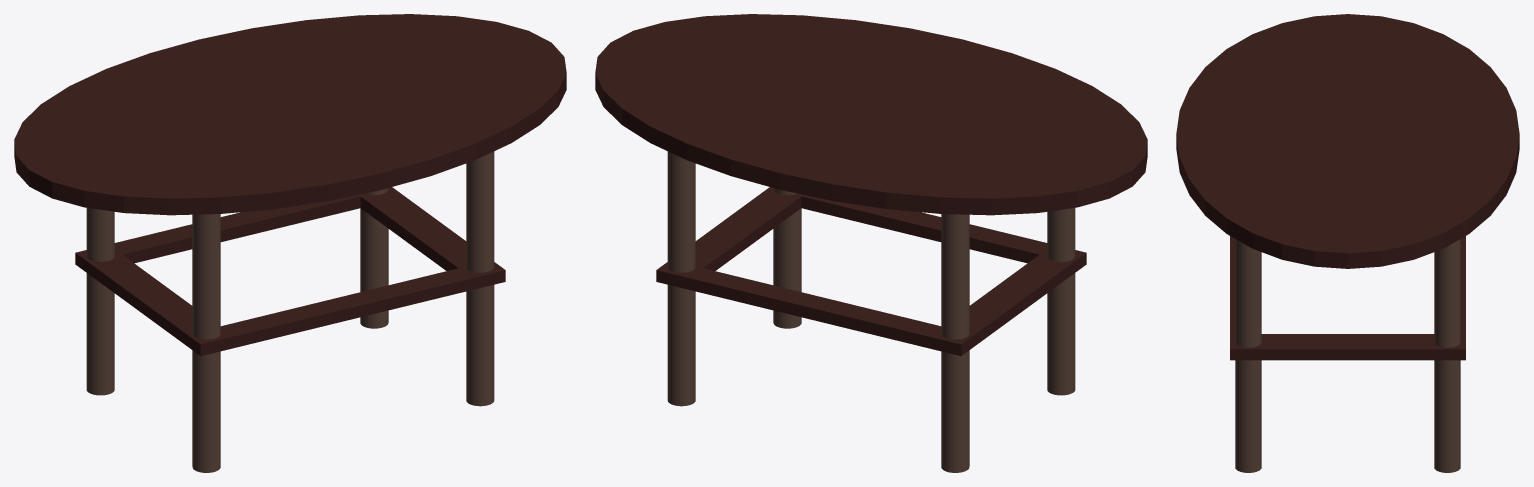
Rendered from Tavolo.fbx.
3 renders of one model, left to right at view 1: azimuth 30°, elevation 25°; view 2: azimuth 150°, elevation 25°; view 3: azimuth 270°, elevation 25°, orthographic. The views are drawn at different scales.
Parts seen in each view (by area): view 1: Cylinder, Cylinder.001, Cube; view 2: Cylinder, Cylinder.001, Cube; view 3: Cylinder, Cylinder.001, Cube.
Boxes of the visible parts, x1=… form: Cylinder: x1=14, y1=14, x2=566, y2=215; Cylinder.001: x1=86, y1=151, x2=494, y2=472; Cube: x1=75, y1=187, x2=505, y2=355; Cylinder: x1=595, y1=14, x2=1147, y2=215; Cylinder.001: x1=667, y1=151, x2=1075, y2=472; Cube: x1=656, y1=187, x2=1086, y2=355; Cylinder: x1=1176, y1=14, x2=1519, y2=268; Cylinder.001: x1=1235, y1=239, x2=1460, y2=472; Cube: x1=1230, y1=236, x2=1465, y2=360.
Bounding box in the file's own units: 1258 × 664 × 762.
